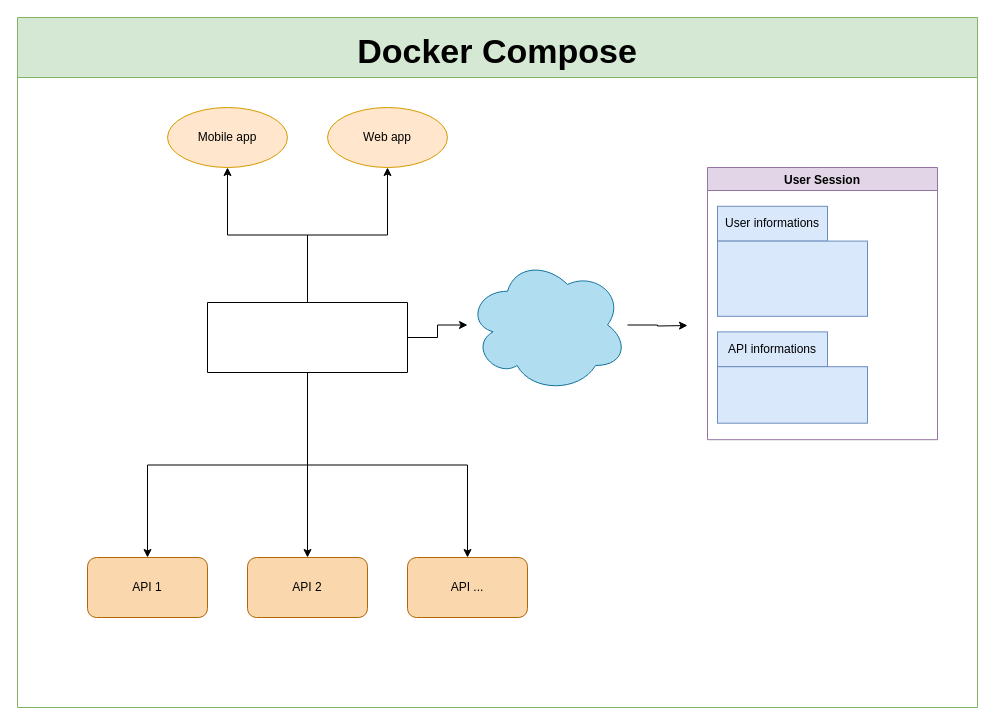
This 995x725 diagram has some shape labels left out. Here are the shapes that lost their labels. From the top down, the centre of each, then its label:
At (x=792, y=278): "Second Name First Name Password E-mail".
At (x=307, y=337): "Server-node js".
At (x=547, y=324): "Data Base mySQL-Microsoft Azure".
At (x=792, y=394): "API's name; API's params; API's positions;".
